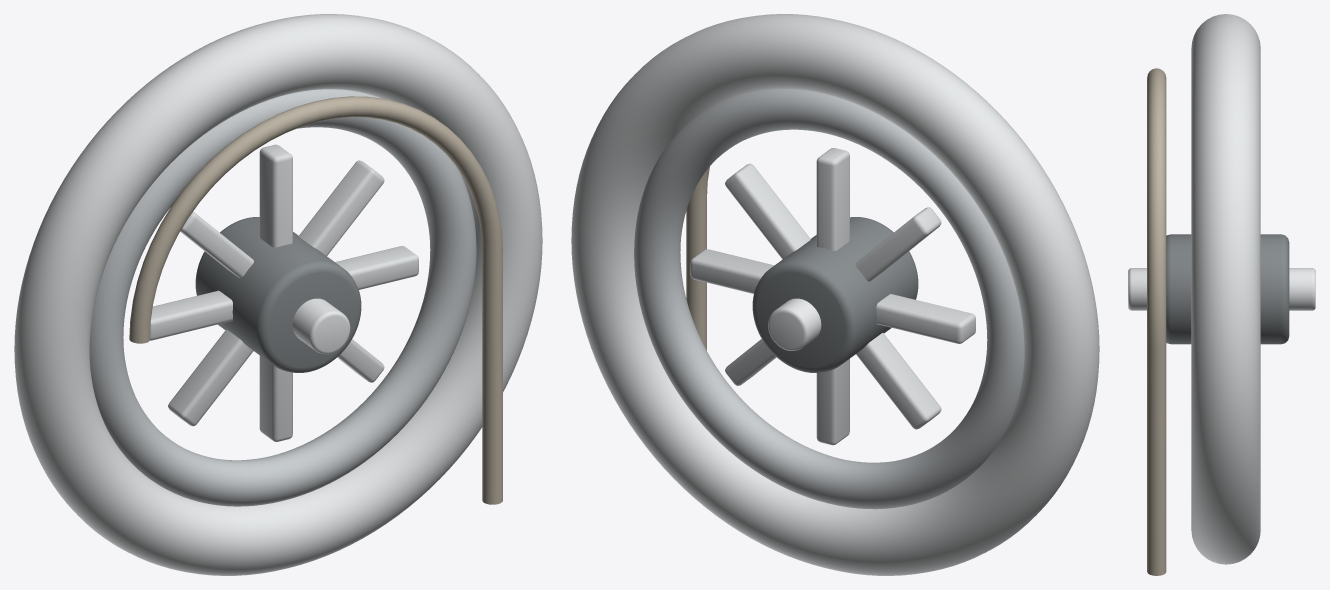
Rendered from pulley-premium-v3.glb.
3 renders of one model, left to right at view 1: azimuth 30°, elevation 25°; view 2: azimuth 150°, elevation 25°; view 3: azimuth 270°, elevation 25°, orthographic. The views are drawn at different scales.
Parts seen in each view (by area): view 1: PulleyOuter, PulleyGroove, Rope, Hub, Spoke.002, Spoke.004, Spoke.001, Spoke.005, Spoke.003, Axle, Spoke, Spoke.007; view 2: PulleyOuter, PulleyGroove, Hub, Spoke.002, Spoke, Spoke.001, Spoke.003, Rope, Spoke.005, Axle, Spoke.007, Spoke.004 (+1 smaller); view 3: PulleyOuter, Rope, Hub, Axle.
Boxes of the visible parts, x1,y1,x2,y2 form: PulleyOuter: (14,14,542,575); PulleyGroove: (89,89,476,506); Rope: (129,96,502,504); Hub: (195,217,361,372); Spoke.002: (149,246,418,340); Spoke.004: (259,144,292,441); Spoke.001: (168,161,384,426); Spoke.005: (183,160,384,425); Spoke.003: (182,211,383,382); Axle: (292,298,350,354); Spoke: (259,145,292,441); Spoke.007: (180,215,384,380); PulleyOuter: (571,14,1099,575); PulleyGroove: (634,89,1024,509); Hub: (752,217,918,372); Spoke.002: (690,249,975,343); Spoke: (816,148,849,445); Spoke.001: (725,165,941,429); Spoke.003: (725,207,940,385); Rope: (686,166,709,350); Spoke.005: (726,163,927,428); Axle: (768,298,821,350); Spoke.007: (725,208,941,385); Spoke.004: (817,148,849,444); PulleyOuter: (1191,14,1260,564); Rope: (1147,68,1166,575); Hub: (1166,234,1289,344); Axle: (1128,268,1315,310).
Size of the model in its own units: 2.7 by 2.7 by 0.92.
